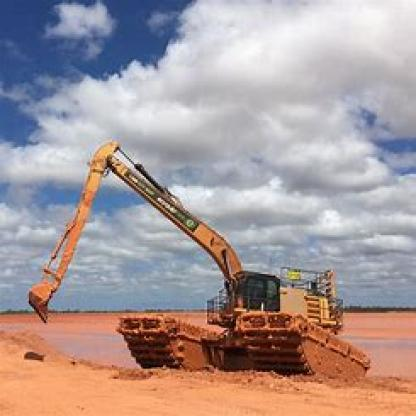excavator: (20, 132, 388, 389)
